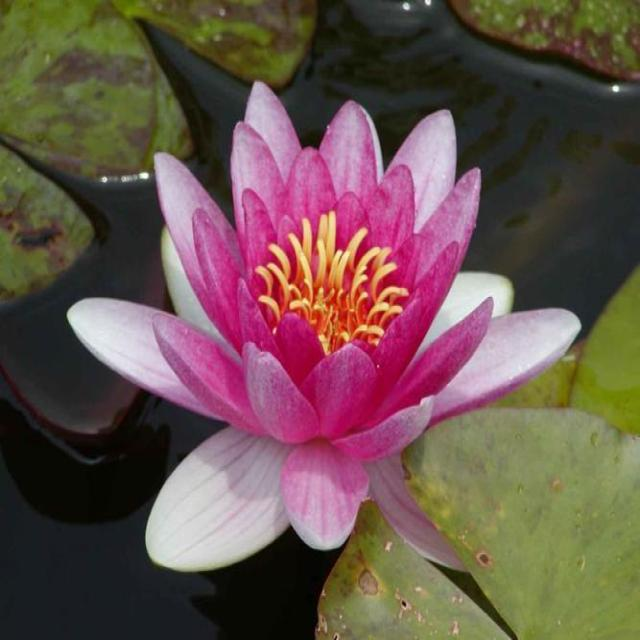rose: (66, 22, 624, 636)
